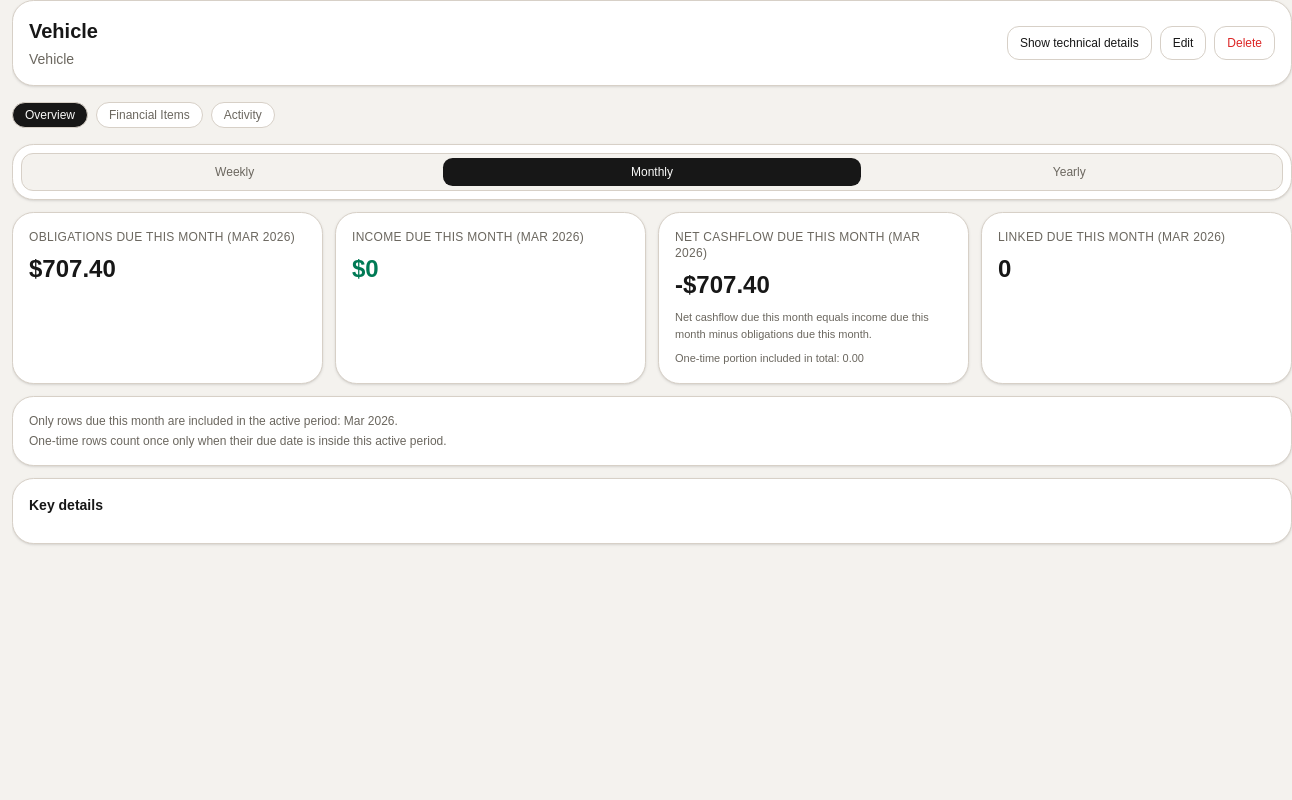
item detail events panel › shows cents for non-whole cadence totals so monthly and yearly math stay visually consistent
This screenshot has width=1292, height=800.
expect the text "Obligations due this month (Mar 2026)" is shown: met, box [29, 229, 306, 245]
expect the text "Obligations due this month (Mar 2026)" shows "$707.40": met, box [29, 255, 116, 282]
Click the button with aria-label "Selected cadence: Yearly".
click(1069, 172)  # box [861, 158, 1278, 186]
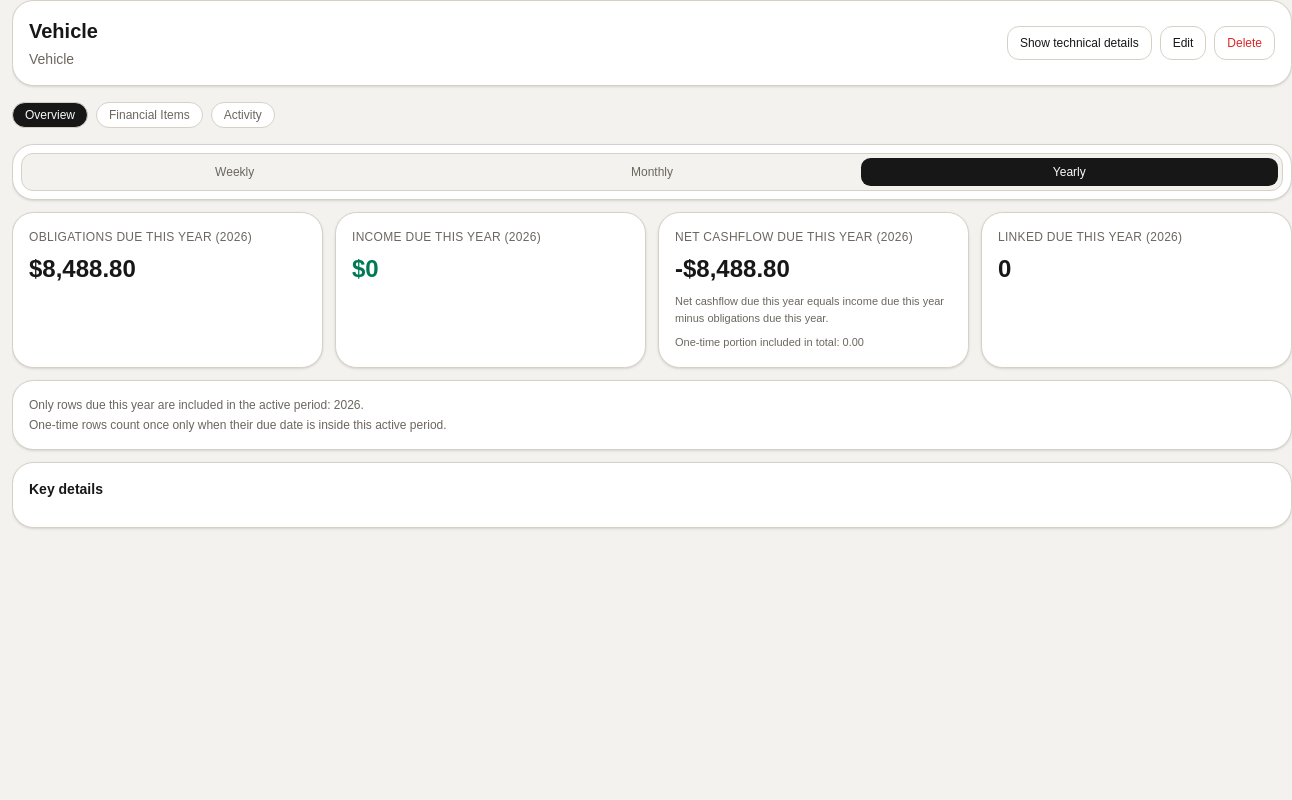
expect the text "Obligations due this year (2026)" is shown: met, box [29, 230, 252, 244]
expect the text "Obligations due this month (Mar 2026)" shows "$8,488.80": met, box [29, 255, 136, 282]
